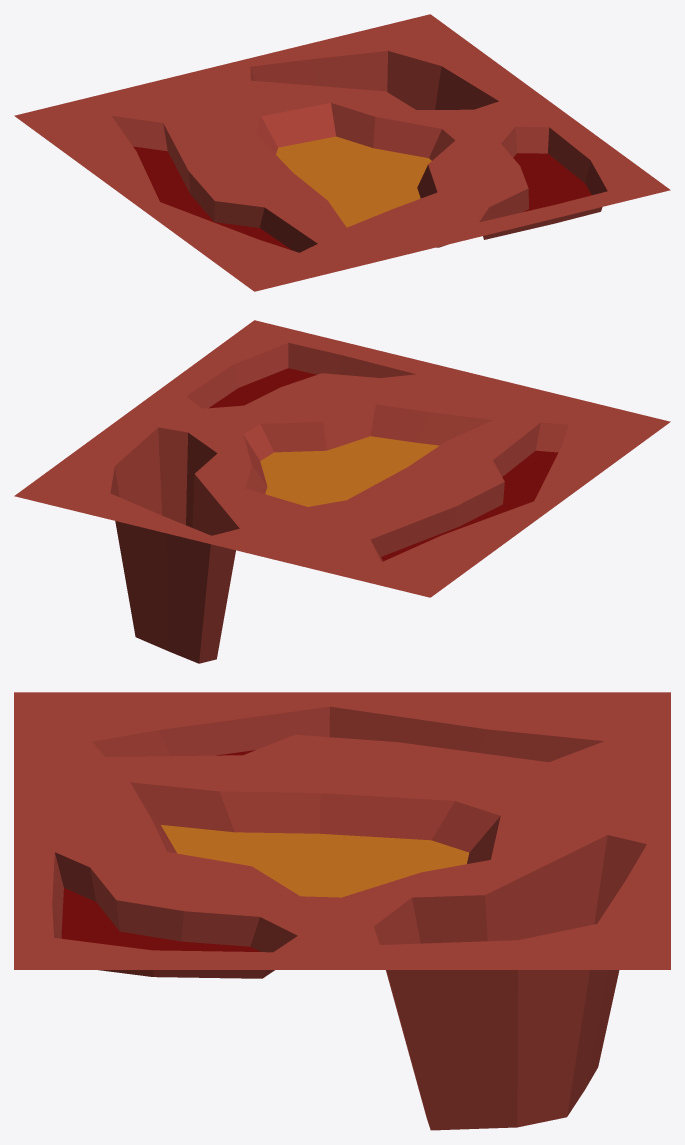
File: Field_14_digged.fbx
The picture shows the model from 3 angles, top to bottom: view 1: azimuth 30°, elevation 25°; view 2: azimuth 150°, elevation 25°; view 3: azimuth 270°, elevation 25°; orthographic projection. The views are drawn at different scales.
Visible parts, largest first — view 1: Plane.030; view 2: Plane.030; view 3: Plane.030.
Part boxes in pixels (bbox=[...]): Plane.030: bbox=[14, 14, 670, 291]; Plane.030: bbox=[14, 320, 670, 663]; Plane.030: bbox=[14, 692, 670, 1130].
Size of the model in its own units: 400 by 136 by 400.
